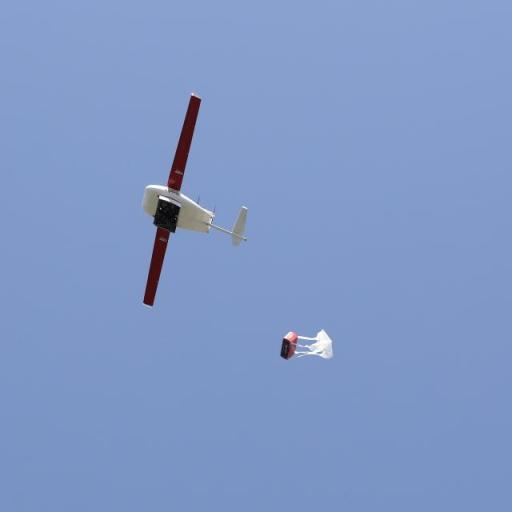uav: (131, 86, 250, 320)
